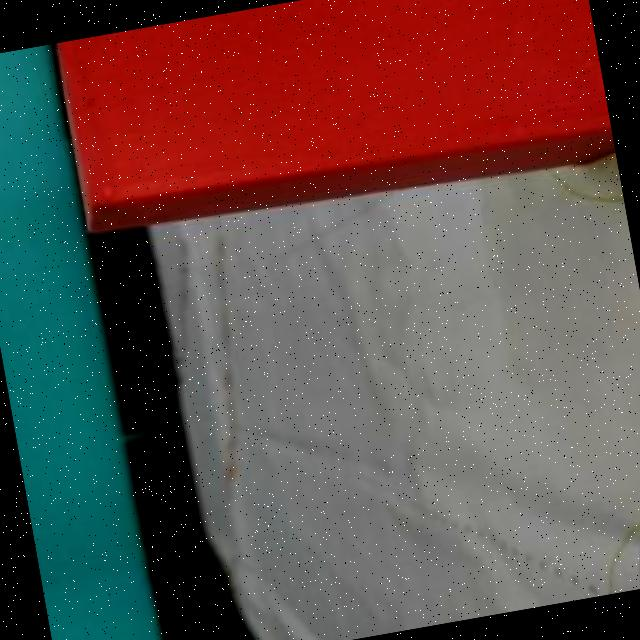redbox: (51, 0, 616, 253)
